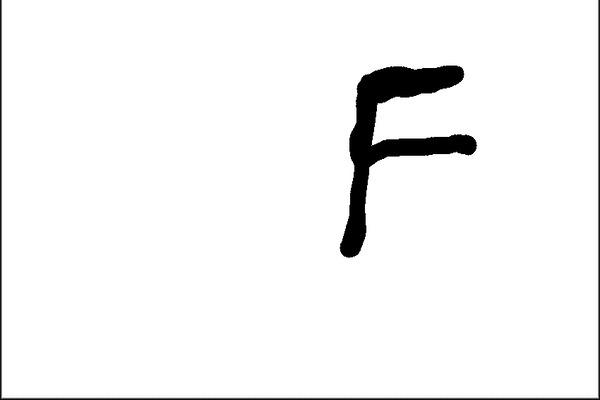F: (335, 61, 480, 260)
